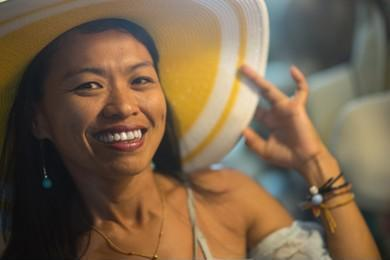face: (44, 47, 162, 179)
